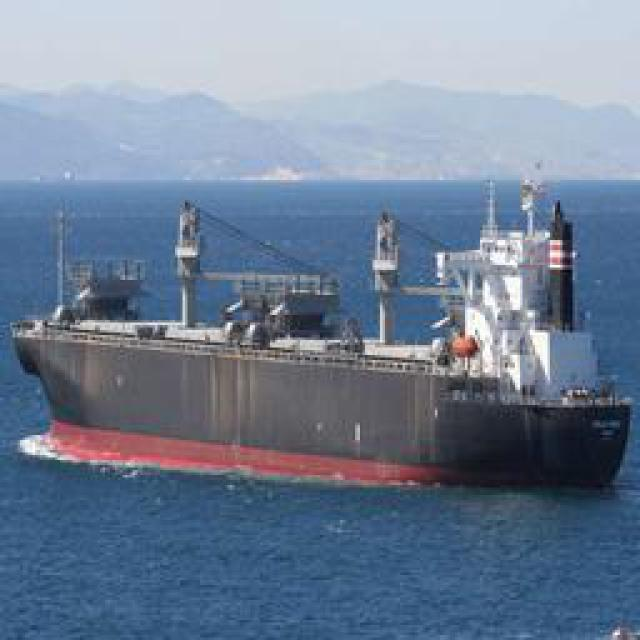Ship: (19, 184, 634, 479)
